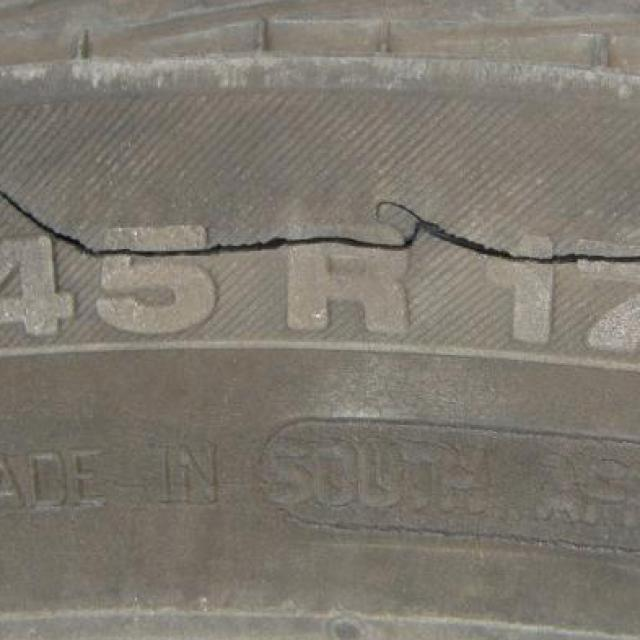Cracks: (0, 153, 638, 297)
